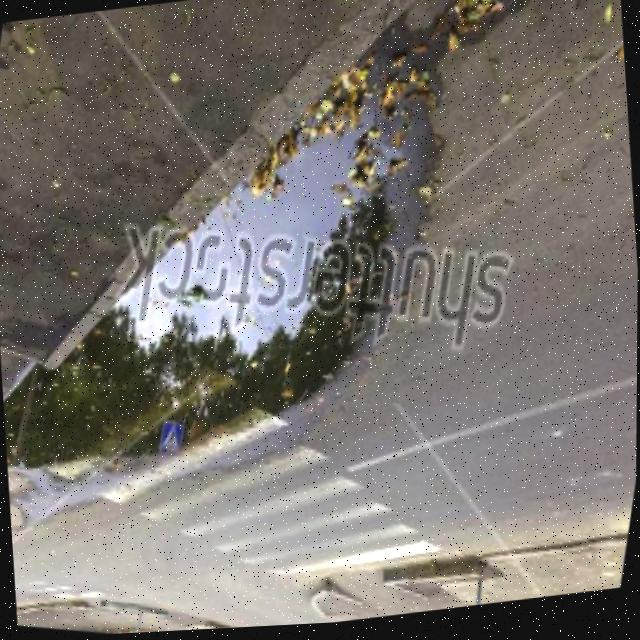Pothole: (0, 0, 557, 608)
